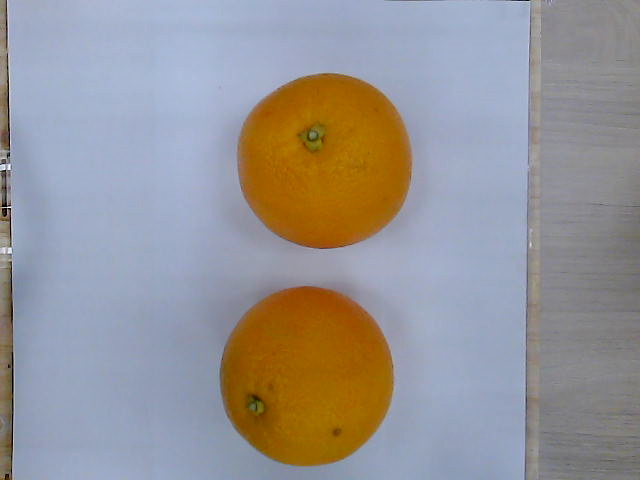fresh_orange: (220, 287, 394, 467), (236, 73, 413, 249)
